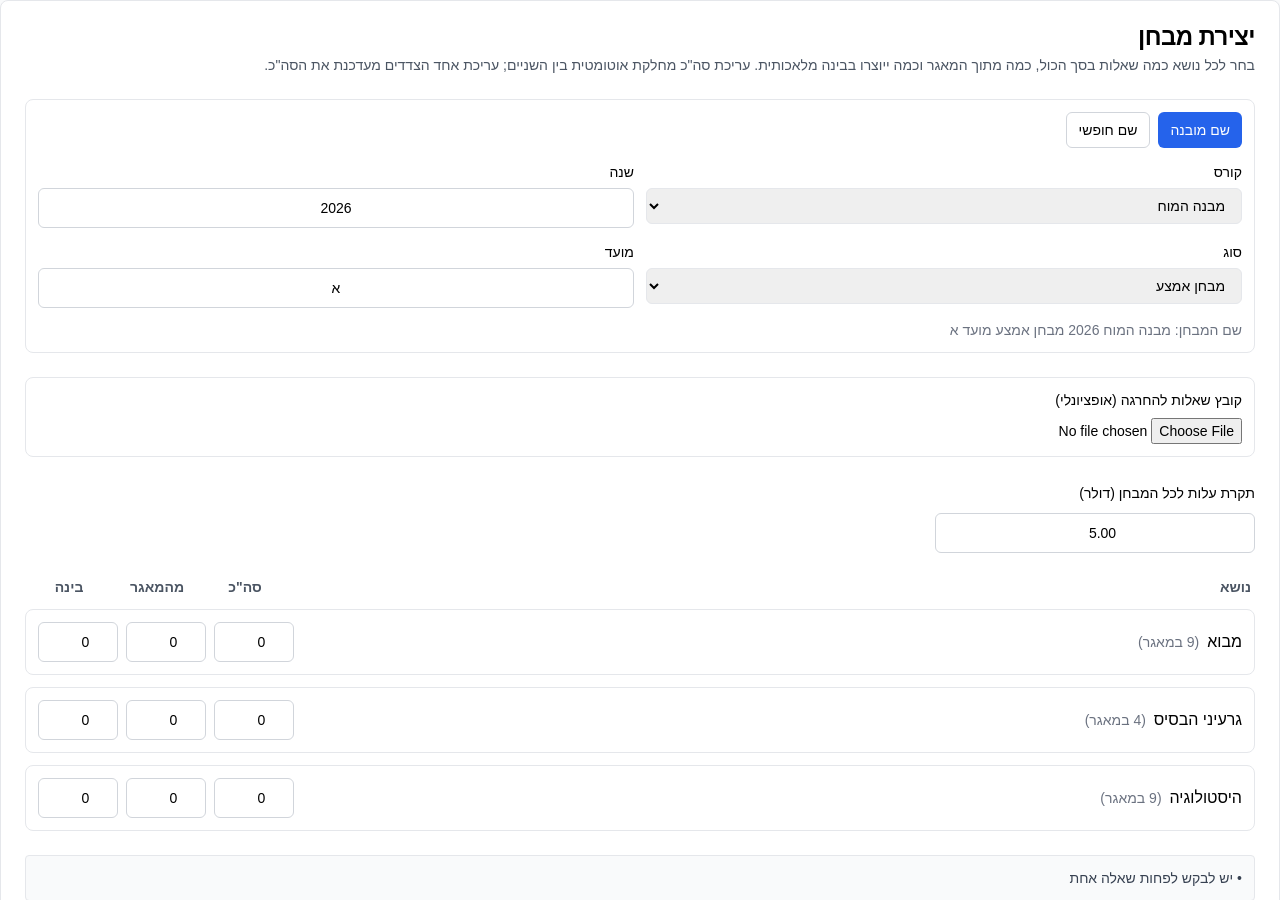
Scenario: WP27 - staged DB review screen › mixed creation opens the DB-review screen, not an automatic LLM progress run
The width and height of the screenshot is (1280, 900).
Replace the text in the number field named "סה\"כ שאלות עבור מבוא" with "2" at (254, 642), box [214,622,294,662]
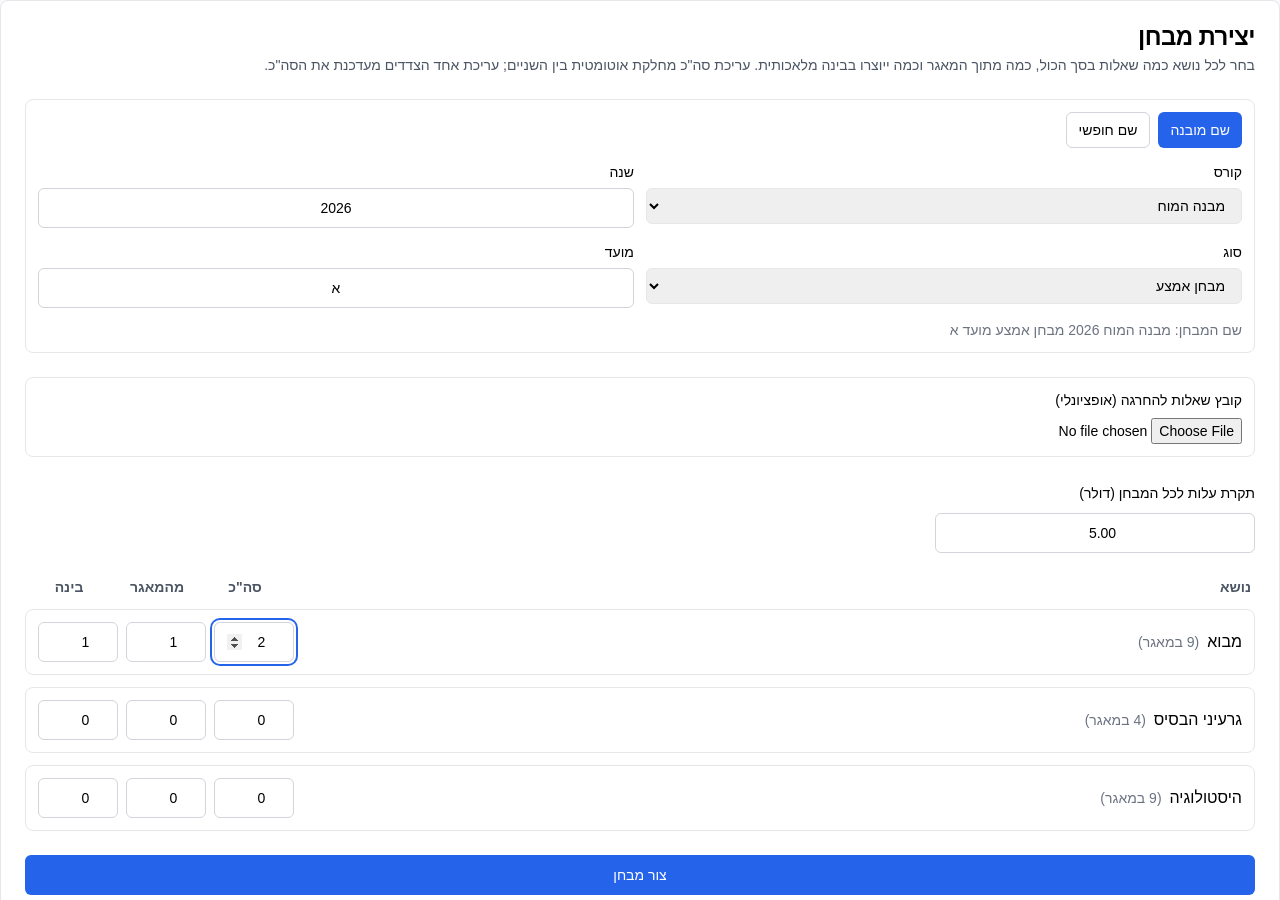
Click the button "צור מבחן" at (640, 875), box [25,855,1255,895]
(page scrolled)
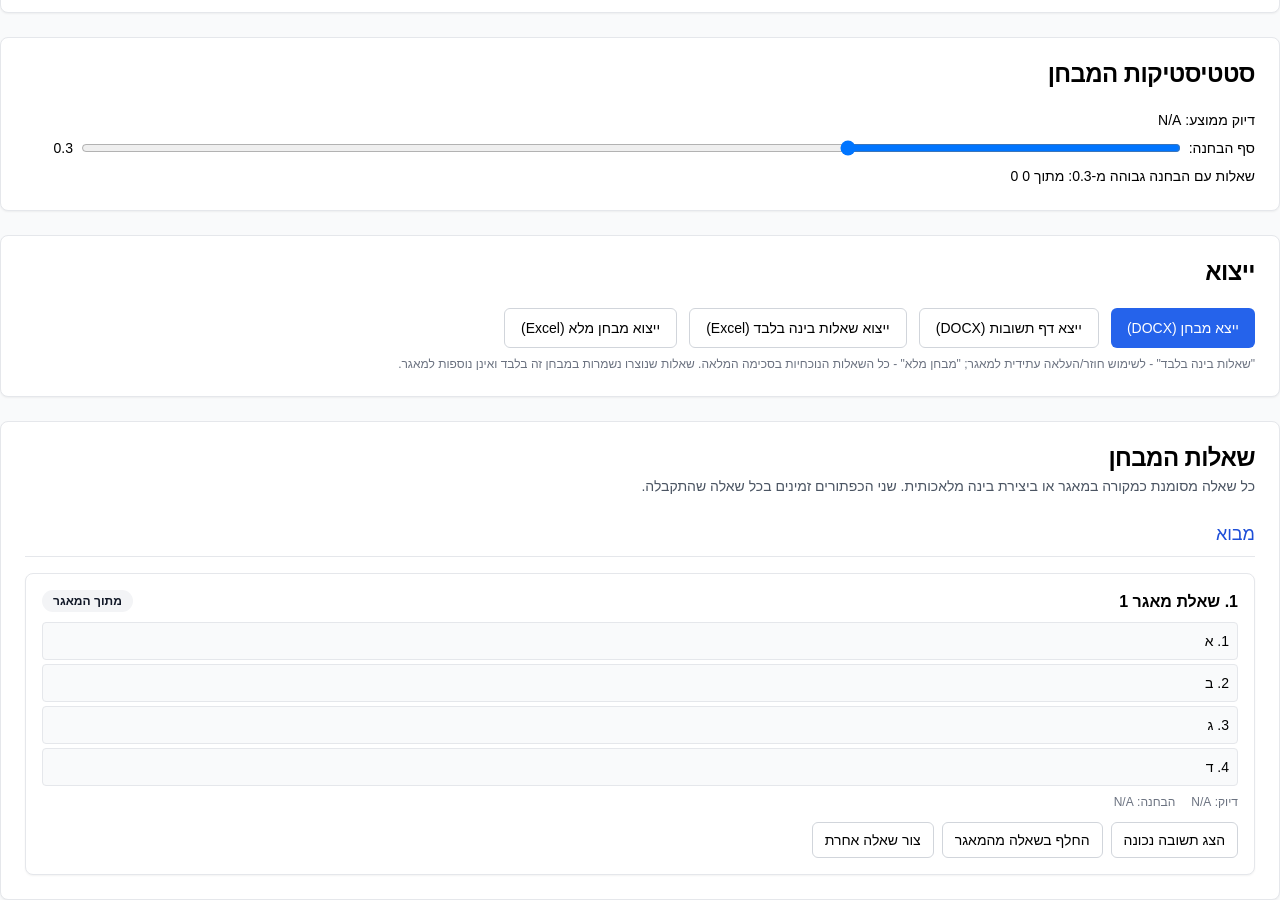
Result: the text "1. שאלת מאגר 1" is shown at [1119,593,1238,610]
